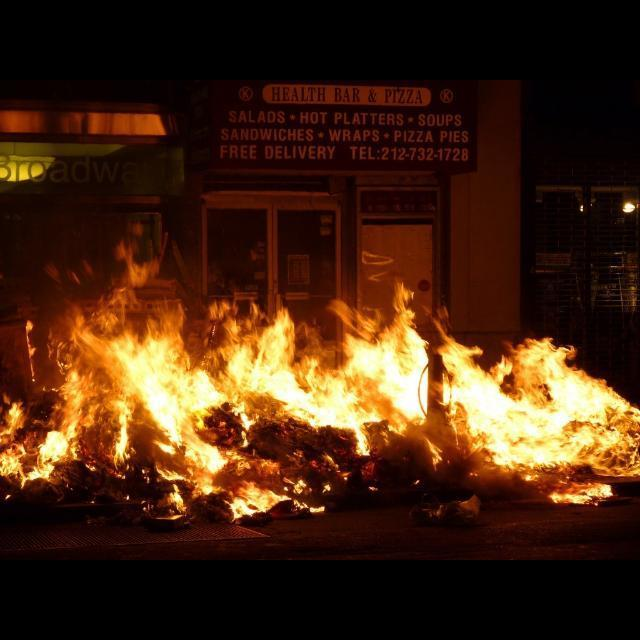Fire: (1, 240, 640, 522)
